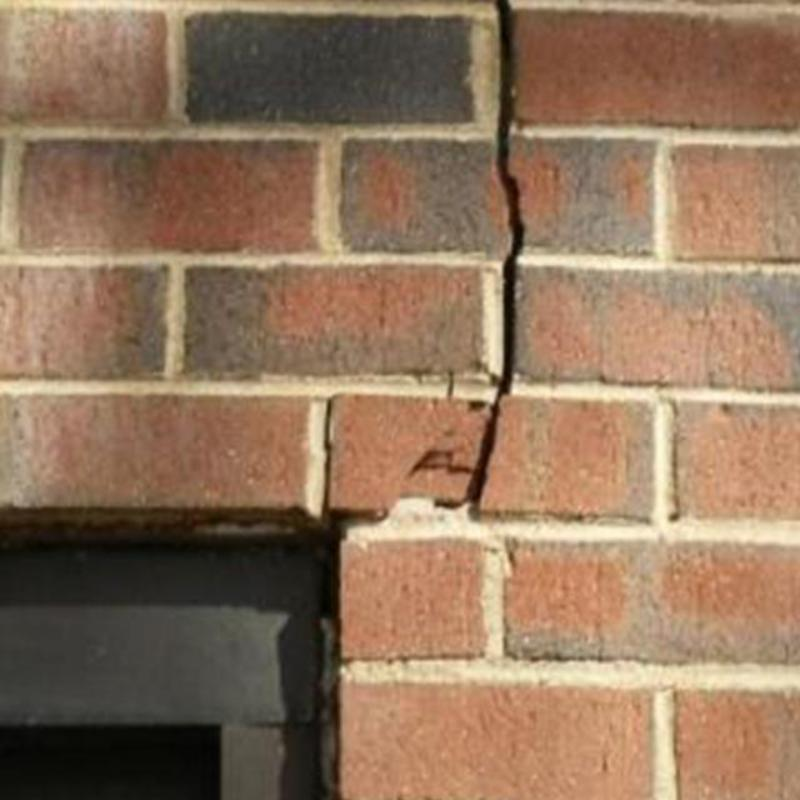pothole: (453, 0, 525, 512), (322, 395, 334, 512)
